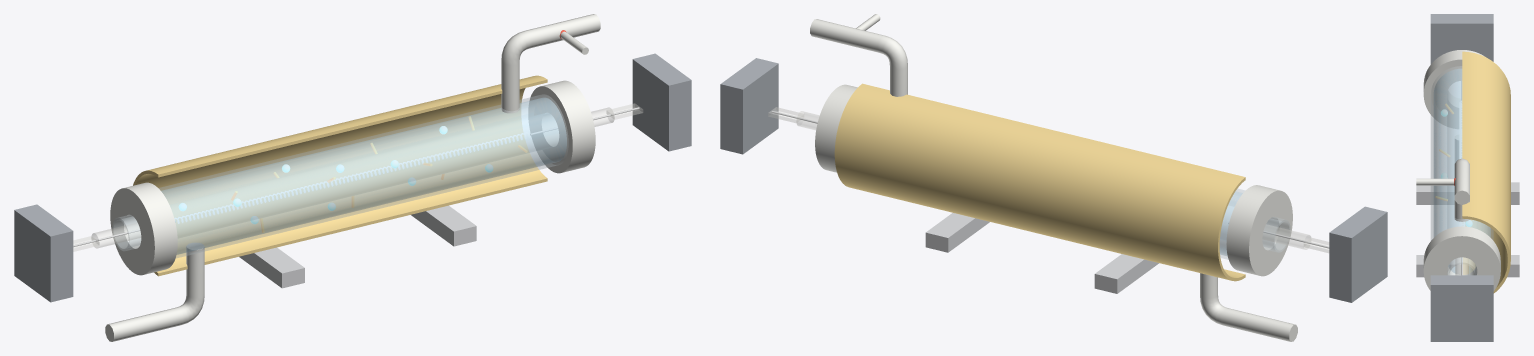
Rendered from lamp.glb.
3 renders of one model, left to right at view 1: azimuth 30°, elevation 25°; view 2: azimuth 150°, elevation 25°; view 3: azimuth 270°, elevation 25°, orthographic. The views are drawn at different scales.
Visible parts, largest first — view 1: 反射罩, 外石英管, 纯水, 端盖-1, 端盖1, 冷却风扇-1, 冷却风扇1, 入口管, 出口管, 支架1, 支架-1, 钨丝 (+2 smaller); view 2: 反射罩, 端盖-1, 冷却风扇-1, 冷却风扇1, 出口管, 入口管, 端盖1, 支架1, 支架-1, 灯玻壳, 内石英管, 外石英管; view 3: 反射罩, 外石英管, 冷却风扇1, 纯水, 端盖1, 冷却风扇-1, 端盖-1, 支架-1, 出口管, 支架1, 内石英管, 出口温度传感器 (+3 smaller).
Part boxes in pixels (x1,y1,x2,y2): 反射罩: (133, 75, 547, 276); 外石英管: (159, 94, 568, 258); 纯水: (161, 98, 566, 254); 端盖-1: (110, 182, 177, 275); 端盖1: (528, 80, 595, 173); 冷却风扇-1: (14, 204, 73, 302); 冷却风扇1: (632, 53, 691, 151); 入口管: (105, 243, 204, 341); 出口管: (501, 14, 600, 113); 支架1: (411, 205, 476, 246); 支架-1: (239, 247, 304, 288); 钨丝: (174, 132, 530, 223); 反射罩: (834, 83, 1245, 281); 端盖-1: (1226, 185, 1292, 276); 冷却风扇-1: (1329, 206, 1387, 302); 冷却风扇1: (720, 58, 778, 154); 出口管: (810, 19, 907, 96); 入口管: (1200, 273, 1297, 341); 端盖1: (815, 84, 857, 172); 支架1: (925, 213, 989, 252); 支架-1: (1094, 254, 1158, 293); 灯玻壳: (796, 111, 1311, 249); 内石英管: (1262, 217, 1290, 252); 外石英管: (1219, 189, 1244, 259); 反射罩: (1462, 51, 1510, 293); 外石英管: (1431, 66, 1493, 240); 冷却风扇1: (1430, 275, 1493, 341); 纯水: (1434, 69, 1490, 272); 端盖1: (1423, 226, 1500, 290); 冷却风扇-1: (1430, 14, 1493, 64); 端盖-1: (1423, 50, 1484, 128); 支架-1: (1416, 182, 1519, 204); 出口管: (1454, 158, 1469, 221); 支架1: (1416, 255, 1519, 277); 内石英管: (1447, 257, 1476, 274); 出口温度传感器: (1416, 178, 1453, 185).
Size of the model in its own units: 2.24 by 0.696 by 0.36.
